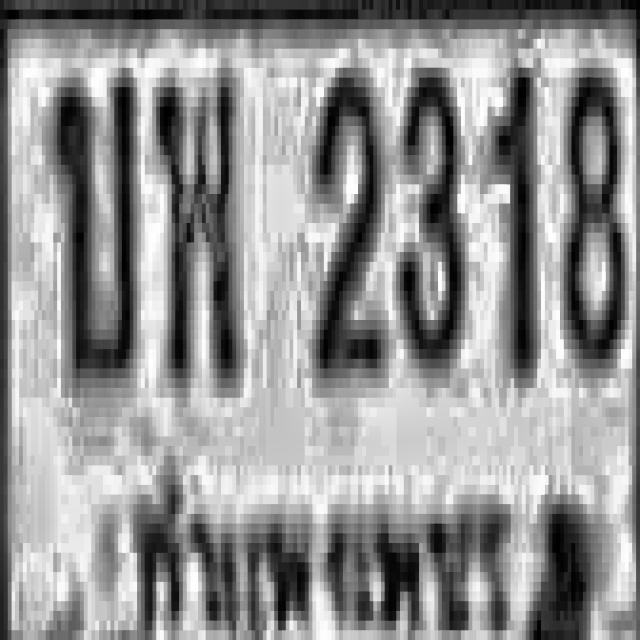license-plate: (13, 27, 632, 640)
